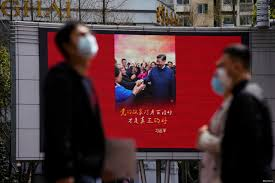mask: (50, 8, 103, 65), (217, 40, 261, 92), (207, 70, 222, 95)
